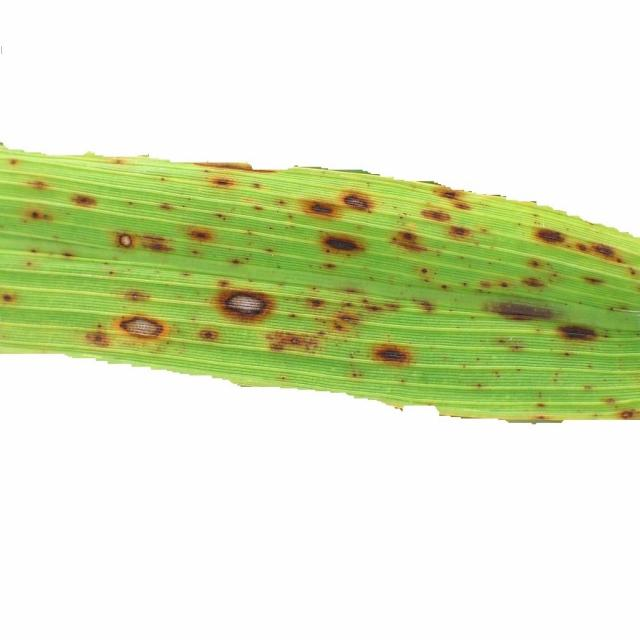brown spot: (327, 282, 403, 341), (110, 212, 180, 268), (480, 292, 564, 328), (543, 308, 605, 356), (218, 276, 274, 328), (113, 301, 169, 347), (385, 222, 439, 261), (315, 227, 373, 263), (264, 326, 326, 356), (366, 337, 422, 370), (64, 180, 106, 224), (78, 310, 115, 359), (334, 182, 380, 218), (584, 234, 626, 271), (414, 197, 457, 230), (178, 223, 222, 254), (297, 196, 342, 225), (526, 223, 574, 250), (118, 284, 160, 312), (192, 319, 230, 348), (517, 269, 554, 295), (577, 266, 611, 294), (0, 282, 29, 313), (23, 200, 55, 228), (447, 220, 476, 250), (568, 230, 598, 259), (303, 286, 332, 315), (474, 275, 516, 294), (411, 261, 438, 290), (414, 292, 438, 322), (207, 172, 239, 194), (156, 191, 180, 219), (434, 183, 464, 205), (59, 244, 85, 268), (612, 401, 640, 423), (29, 170, 52, 194), (434, 277, 456, 298), (621, 260, 640, 280), (23, 243, 47, 256), (244, 182, 270, 194)
